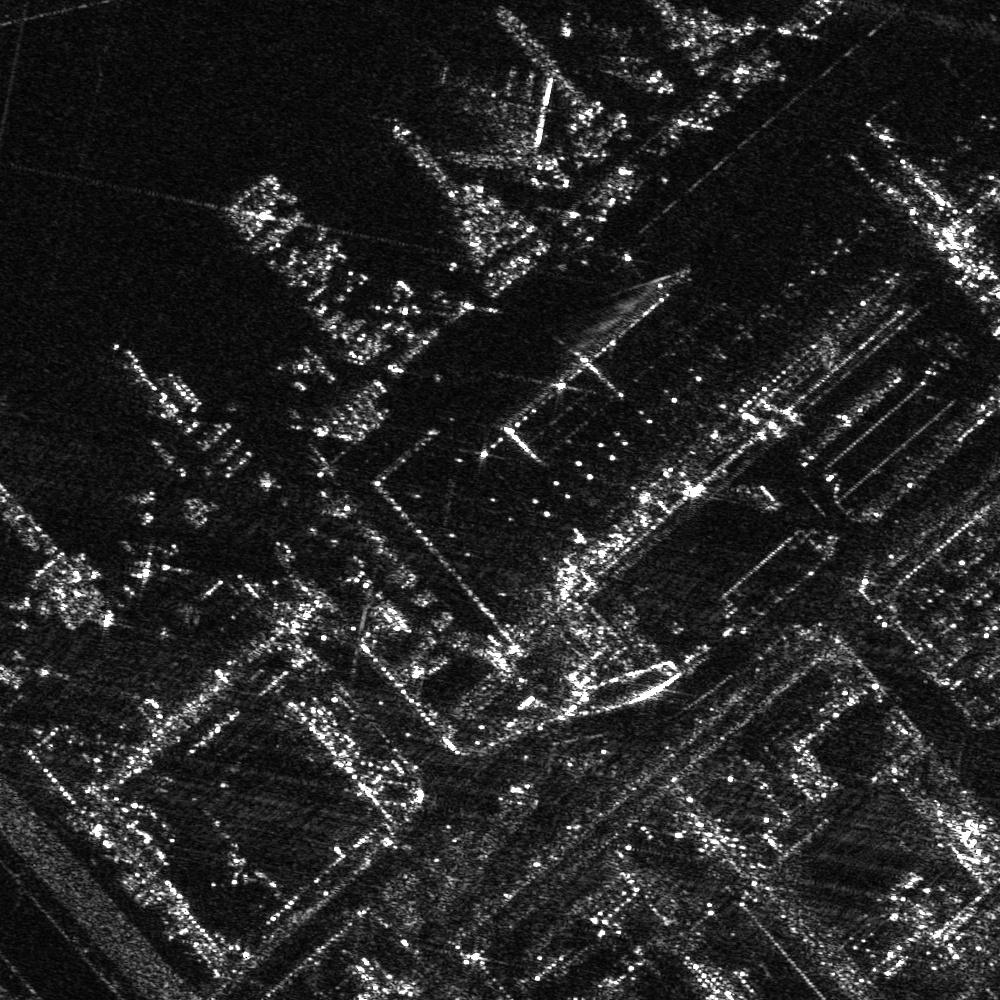Boeing787: (436, 63, 550, 165), (567, 4, 674, 89)
